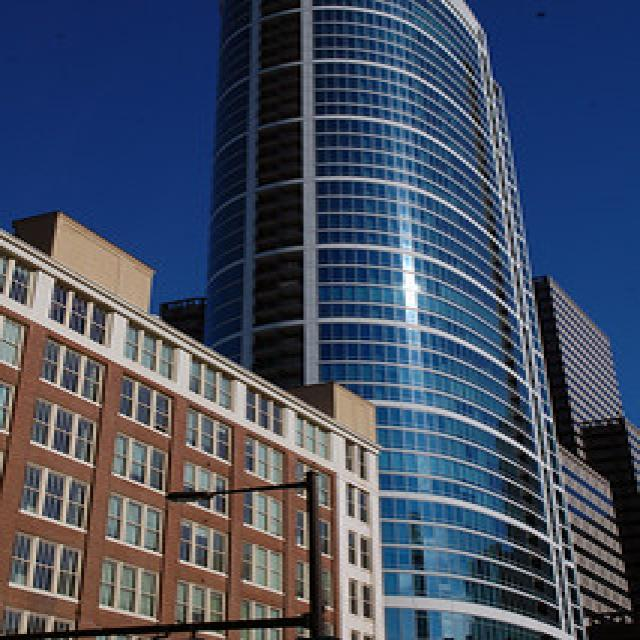building: (207, 4, 565, 640)
